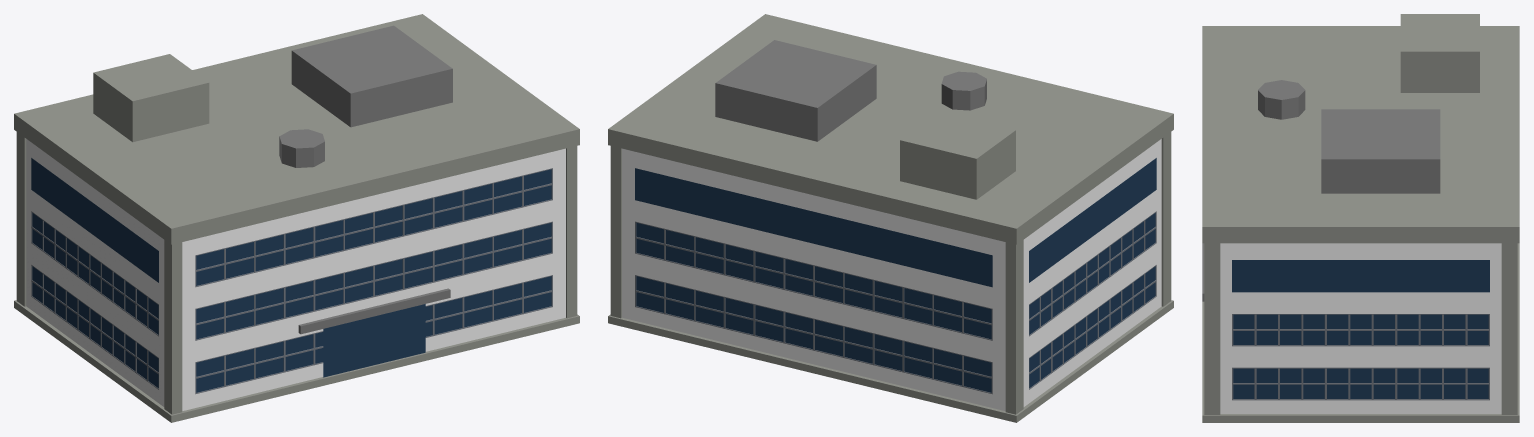
The model's file is mashup-admin-mid-prebuilt_close.fbx.
3 renders of one model, left to right at view 1: azimuth 30°, elevation 25°; view 2: azimuth 150°, elevation 25°; view 3: azimuth 270°, elevation 25°, orthographic.
Visible parts, largest first — view 1: a1056.AdminBuilding.001; view 2: a1056.AdminBuilding.001; view 3: a1056.AdminBuilding.001.
Boxes of the visible parts, left/top/right/bottom form: a1056.AdminBuilding.001: left=14, top=14, right=579, bottom=422; a1056.AdminBuilding.001: left=608, top=14, right=1173, bottom=422; a1056.AdminBuilding.001: left=1202, top=14, right=1519, bottom=422.
Size of the model in its own units: 24 by 13.2 by 16.
